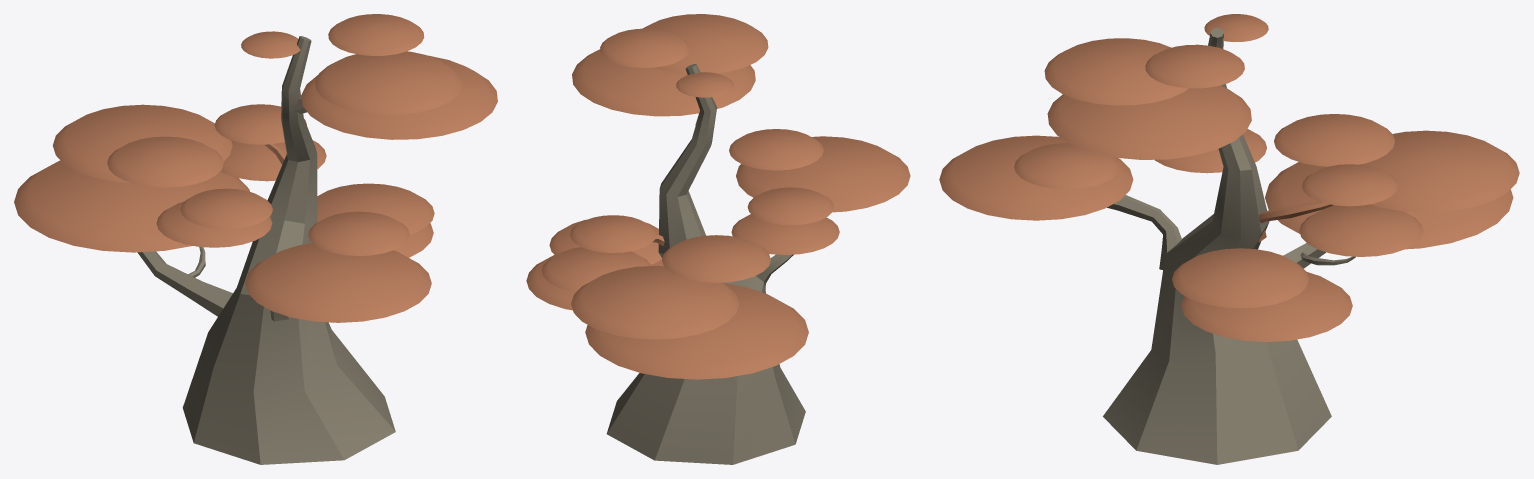
File: Broadleaf_Concept.FBX
The picture shows the model from 3 angles, left to right: view 1: azimuth 30°, elevation 25°; view 2: azimuth 150°, elevation 25°; view 3: azimuth 270°, elevation 25°; orthographic projection. The views are drawn at different scales.
Visible parts, largest first — view 1: Cylinder001; view 2: Cylinder001; view 3: Cylinder001.
Part boxes in pixels (<box>): Cylinder001: <box>14,14,497,464</box>; Cylinder001: <box>526,14,910,464</box>; Cylinder001: <box>939,14,1519,464</box>.
Size of the model in its own units: 114 by 122 by 162.
